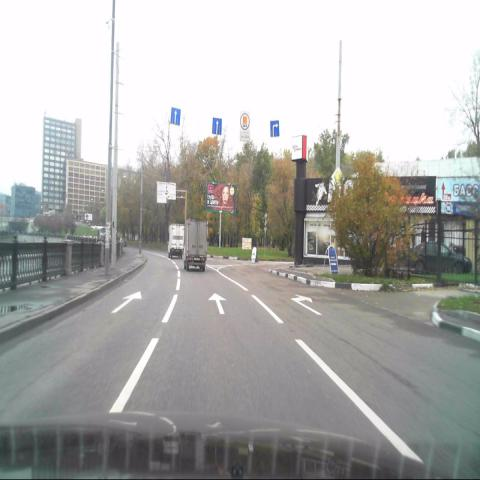5_15_2: (170, 106, 180, 125), (212, 117, 222, 135), (269, 119, 279, 137)
